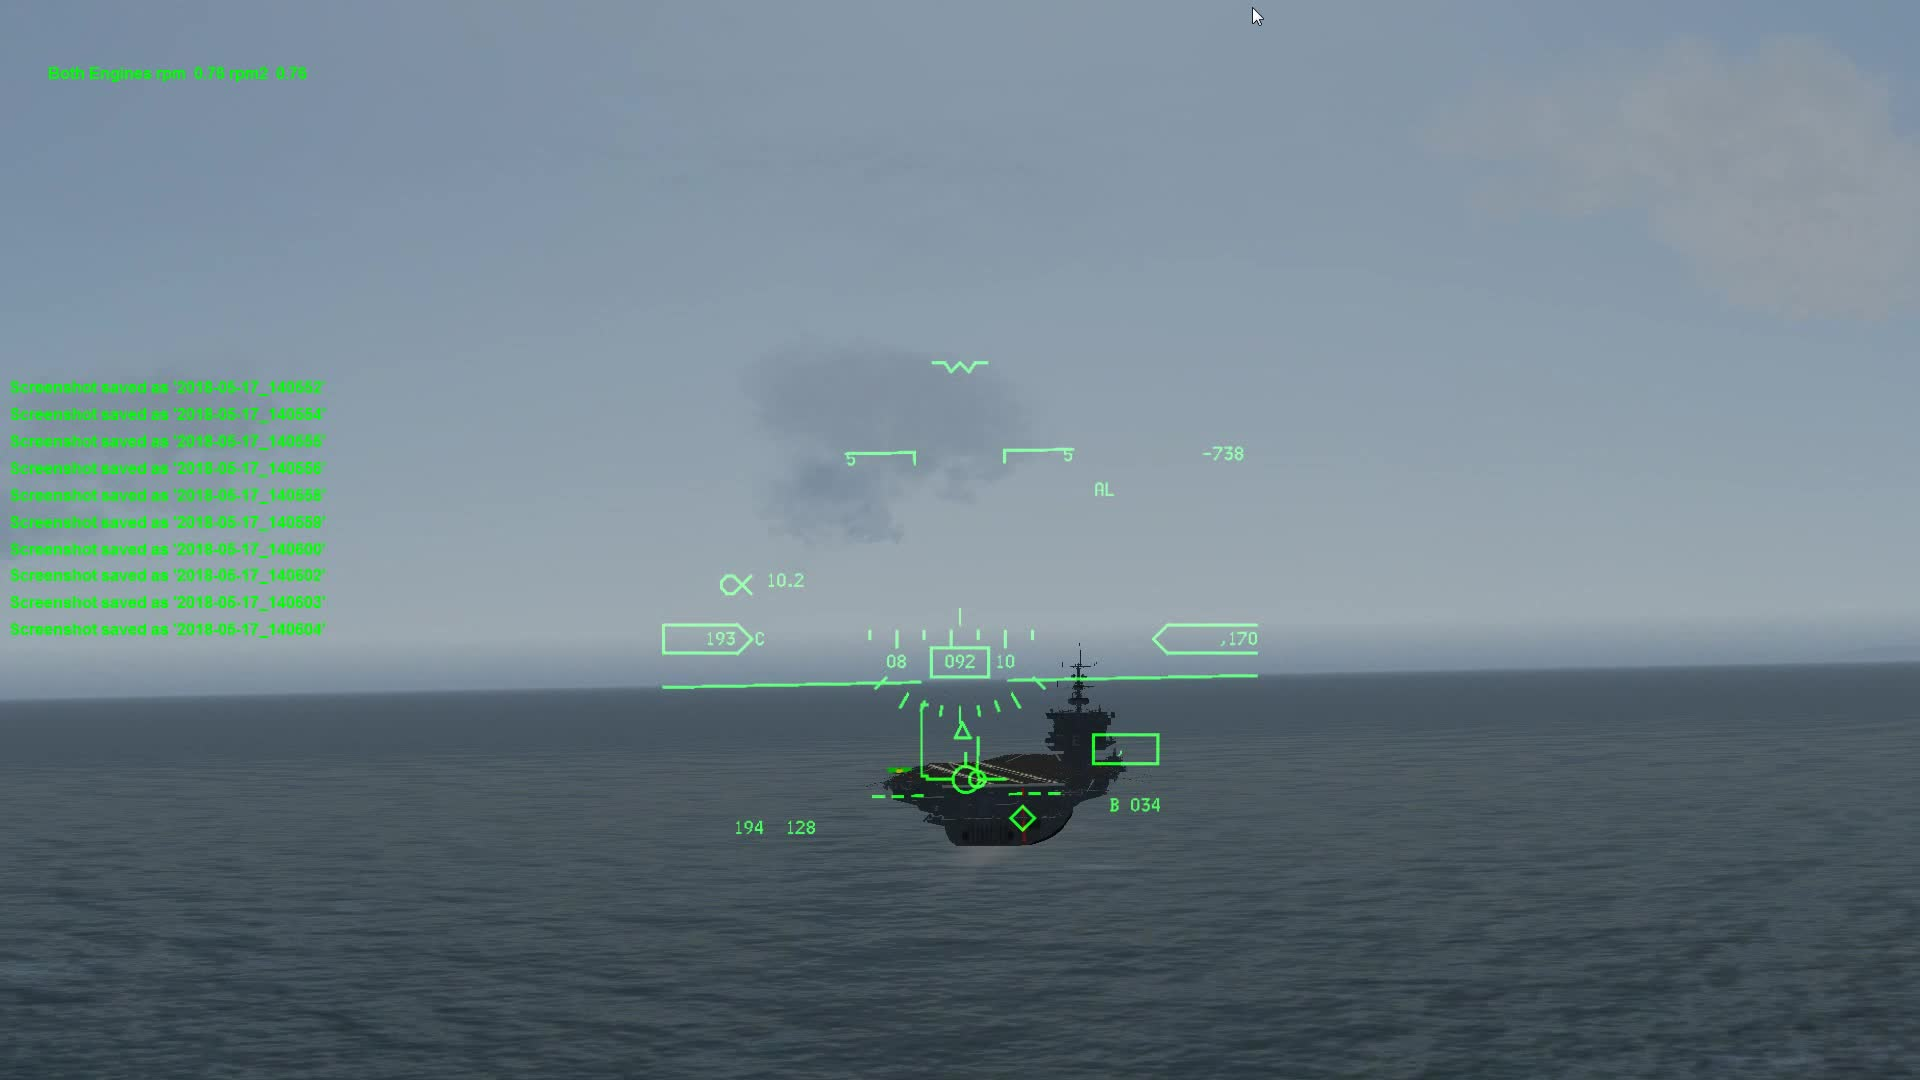speed vector: (928, 753, 1010, 798)
